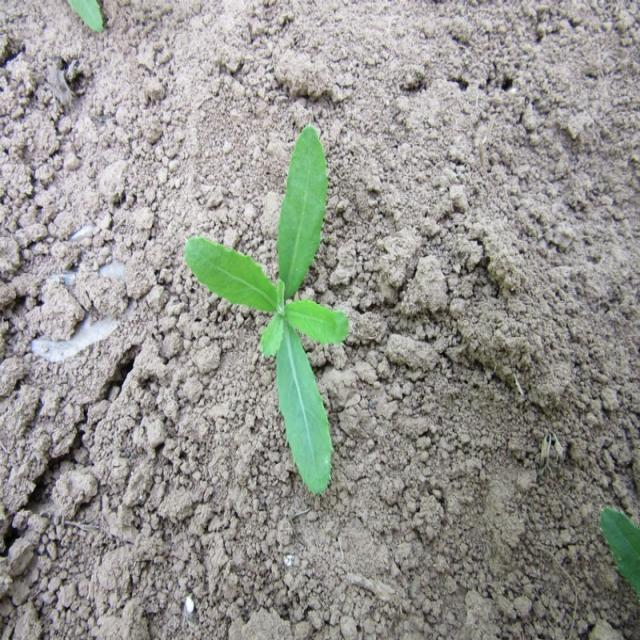field_thistle: (162, 143, 374, 487)
